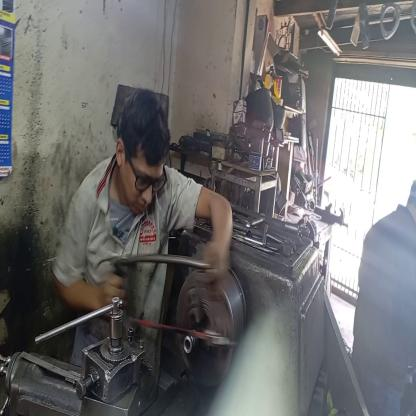lentes: (124, 146, 166, 202)
